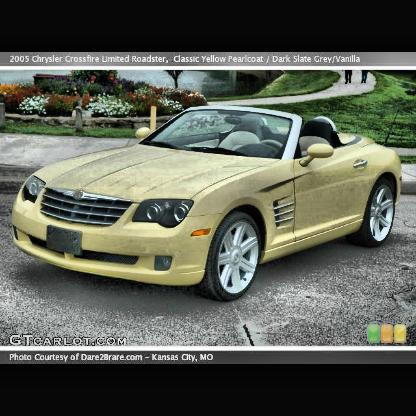Chrysler Crossfire Convertible 2008: (14, 107, 403, 302)
